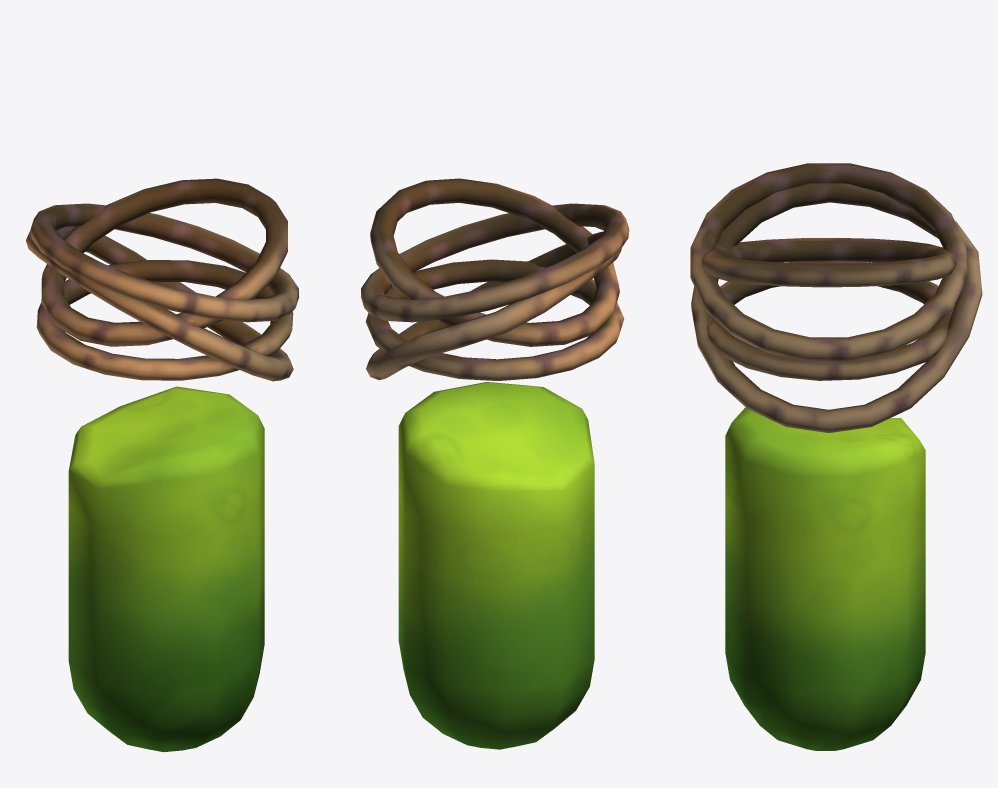
Rendered from lowhealpotion.obj.
The picture shows the model from 3 angles, left to right: view 1: azimuth 30°, elevation 25°; view 2: azimuth 150°, elevation 25°; view 3: azimuth 270°, elevation 25°; orthographic projection.
Visible parts, largest first — view 1: Cylinder.004; view 2: Cylinder.004; view 3: Cylinder.004.
Part boxes in pixels (x1,y1,x2,y2): Cylinder.004: (26,178,298,752); Cylinder.004: (361,178,629,749); Cylinder.004: (690,163,982,750).
Bounding box in the file's own units: 1.01 × 2.79 × 1.06.
Materials: 1 (1 with a texture image).
